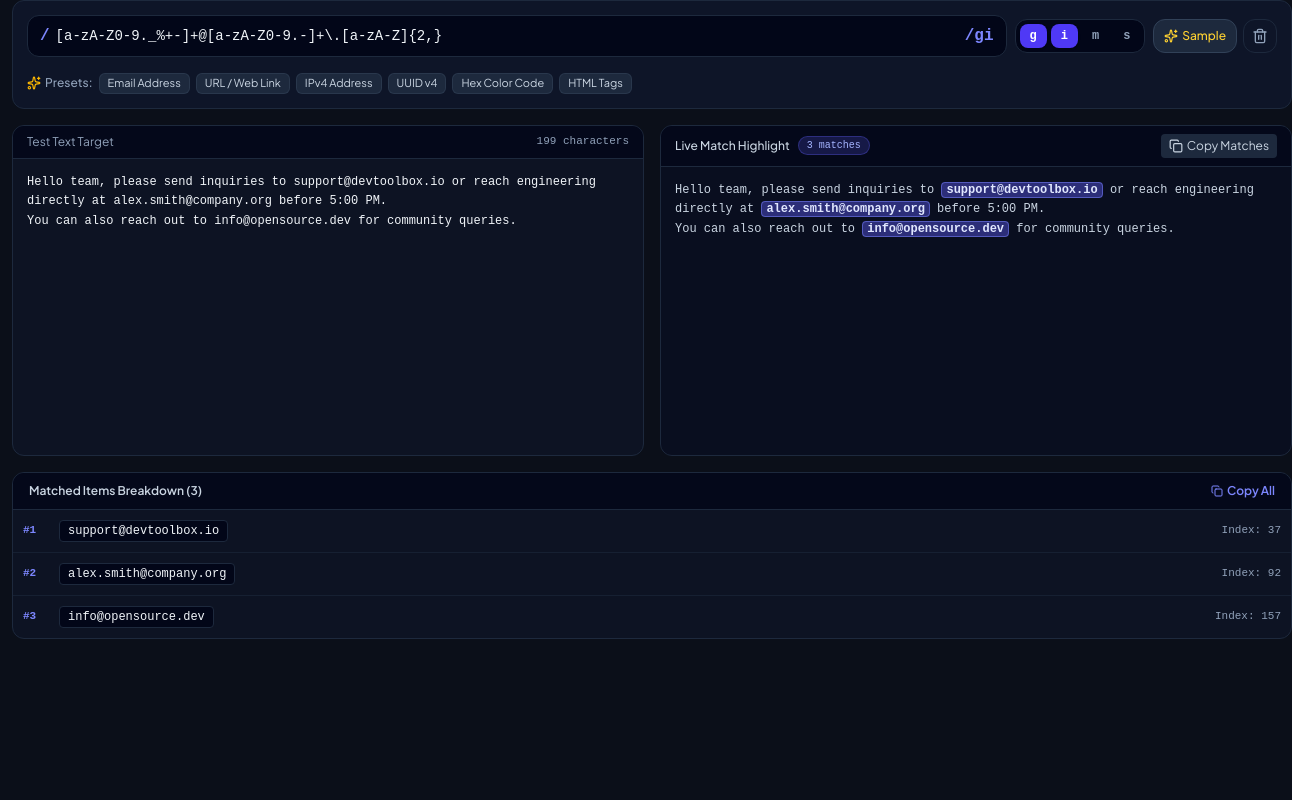
Scenario: RegexTester Tool › handles invalid regex syntax and displays error message
Replace the text in the field named "regular expression pattern" with "[a-z" at [507, 36], box [56,26,959,46]
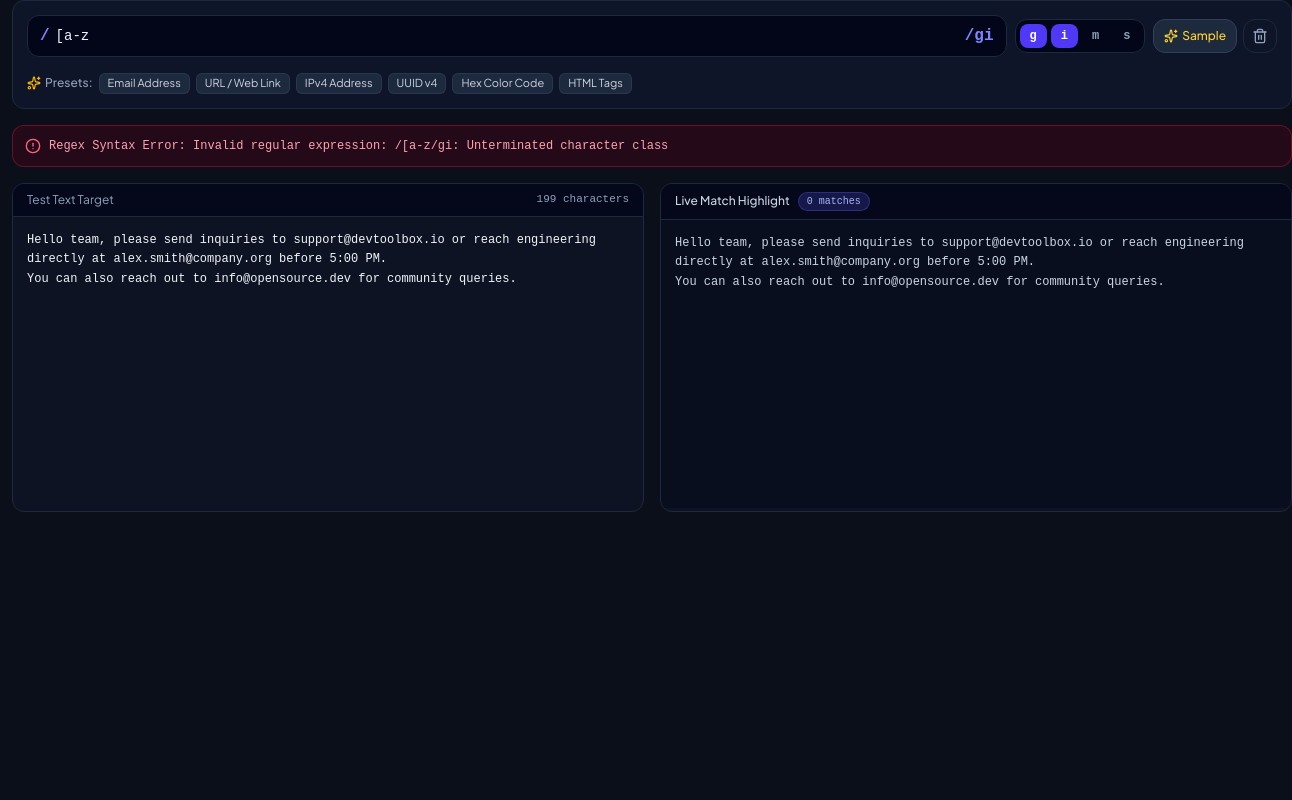
Now the text "Regex Syntax Error:" is shown, box [49,139,193,153]
